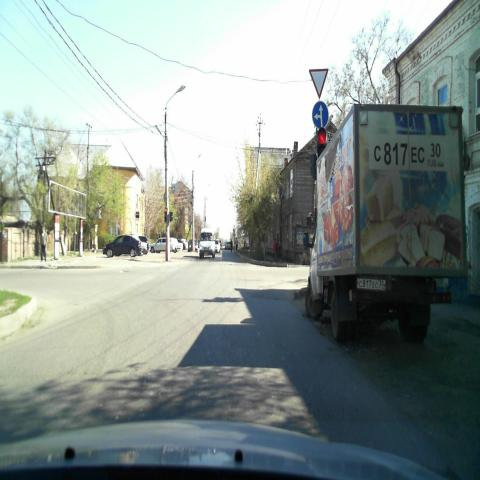4_1_5: (310, 100, 330, 130)
